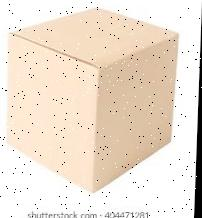cube: (5, 8, 178, 195)
